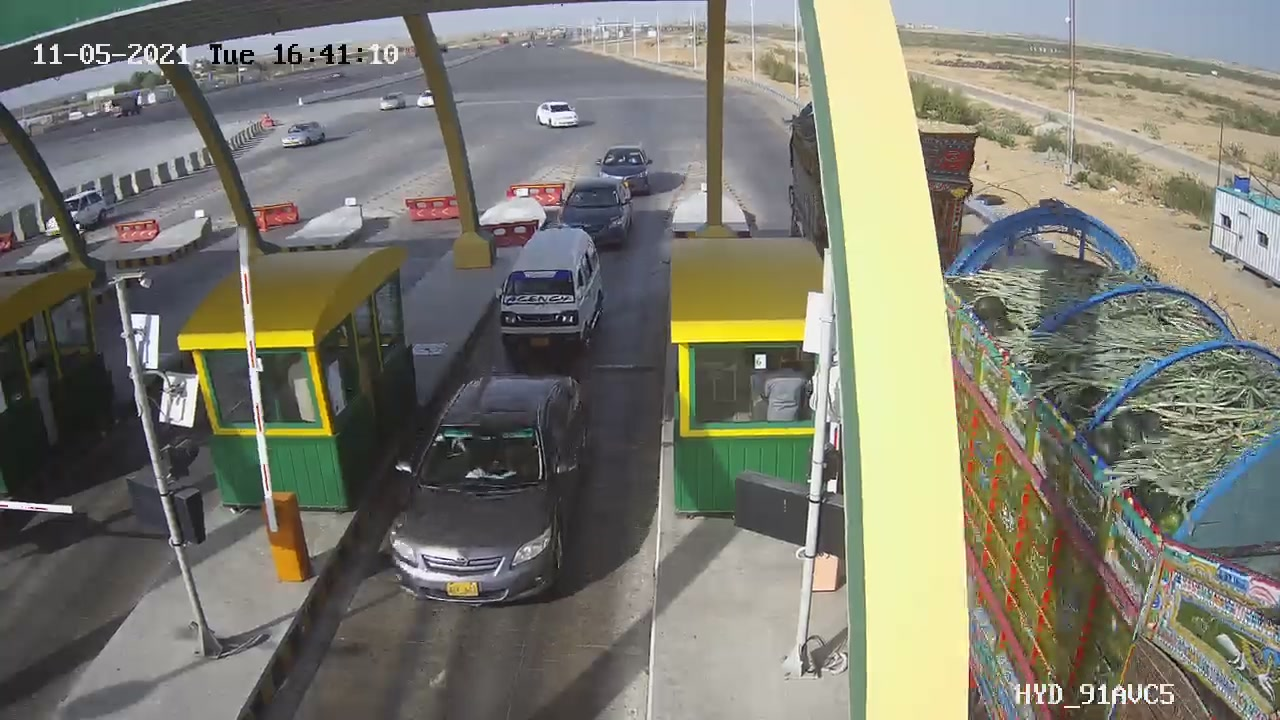F1: (375, 360, 611, 623), (478, 216, 622, 373)
